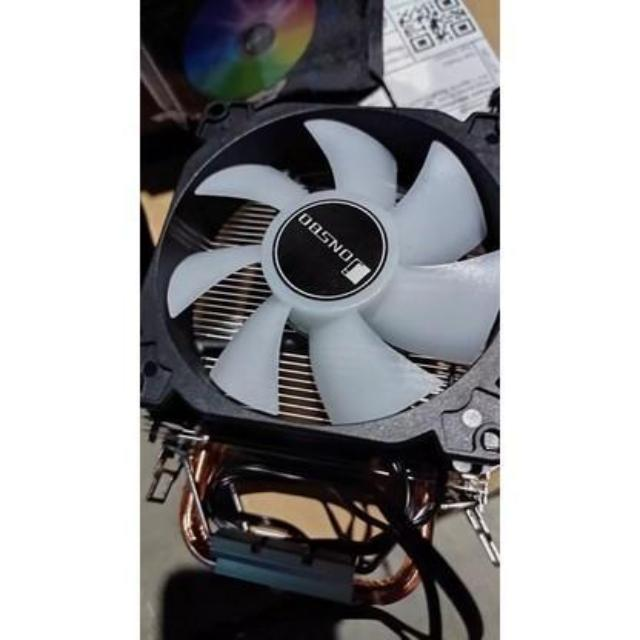CPU_Fan: (138, 93, 498, 610)
